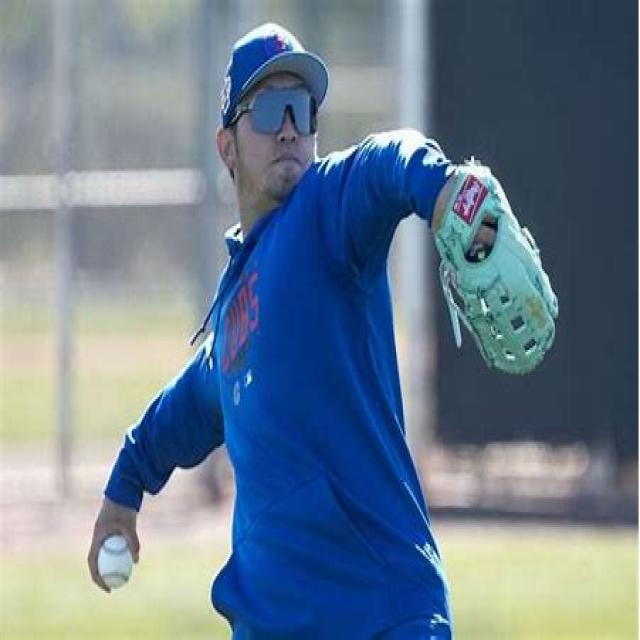ball: (97, 534, 134, 589)
glove: (427, 150, 561, 381)
